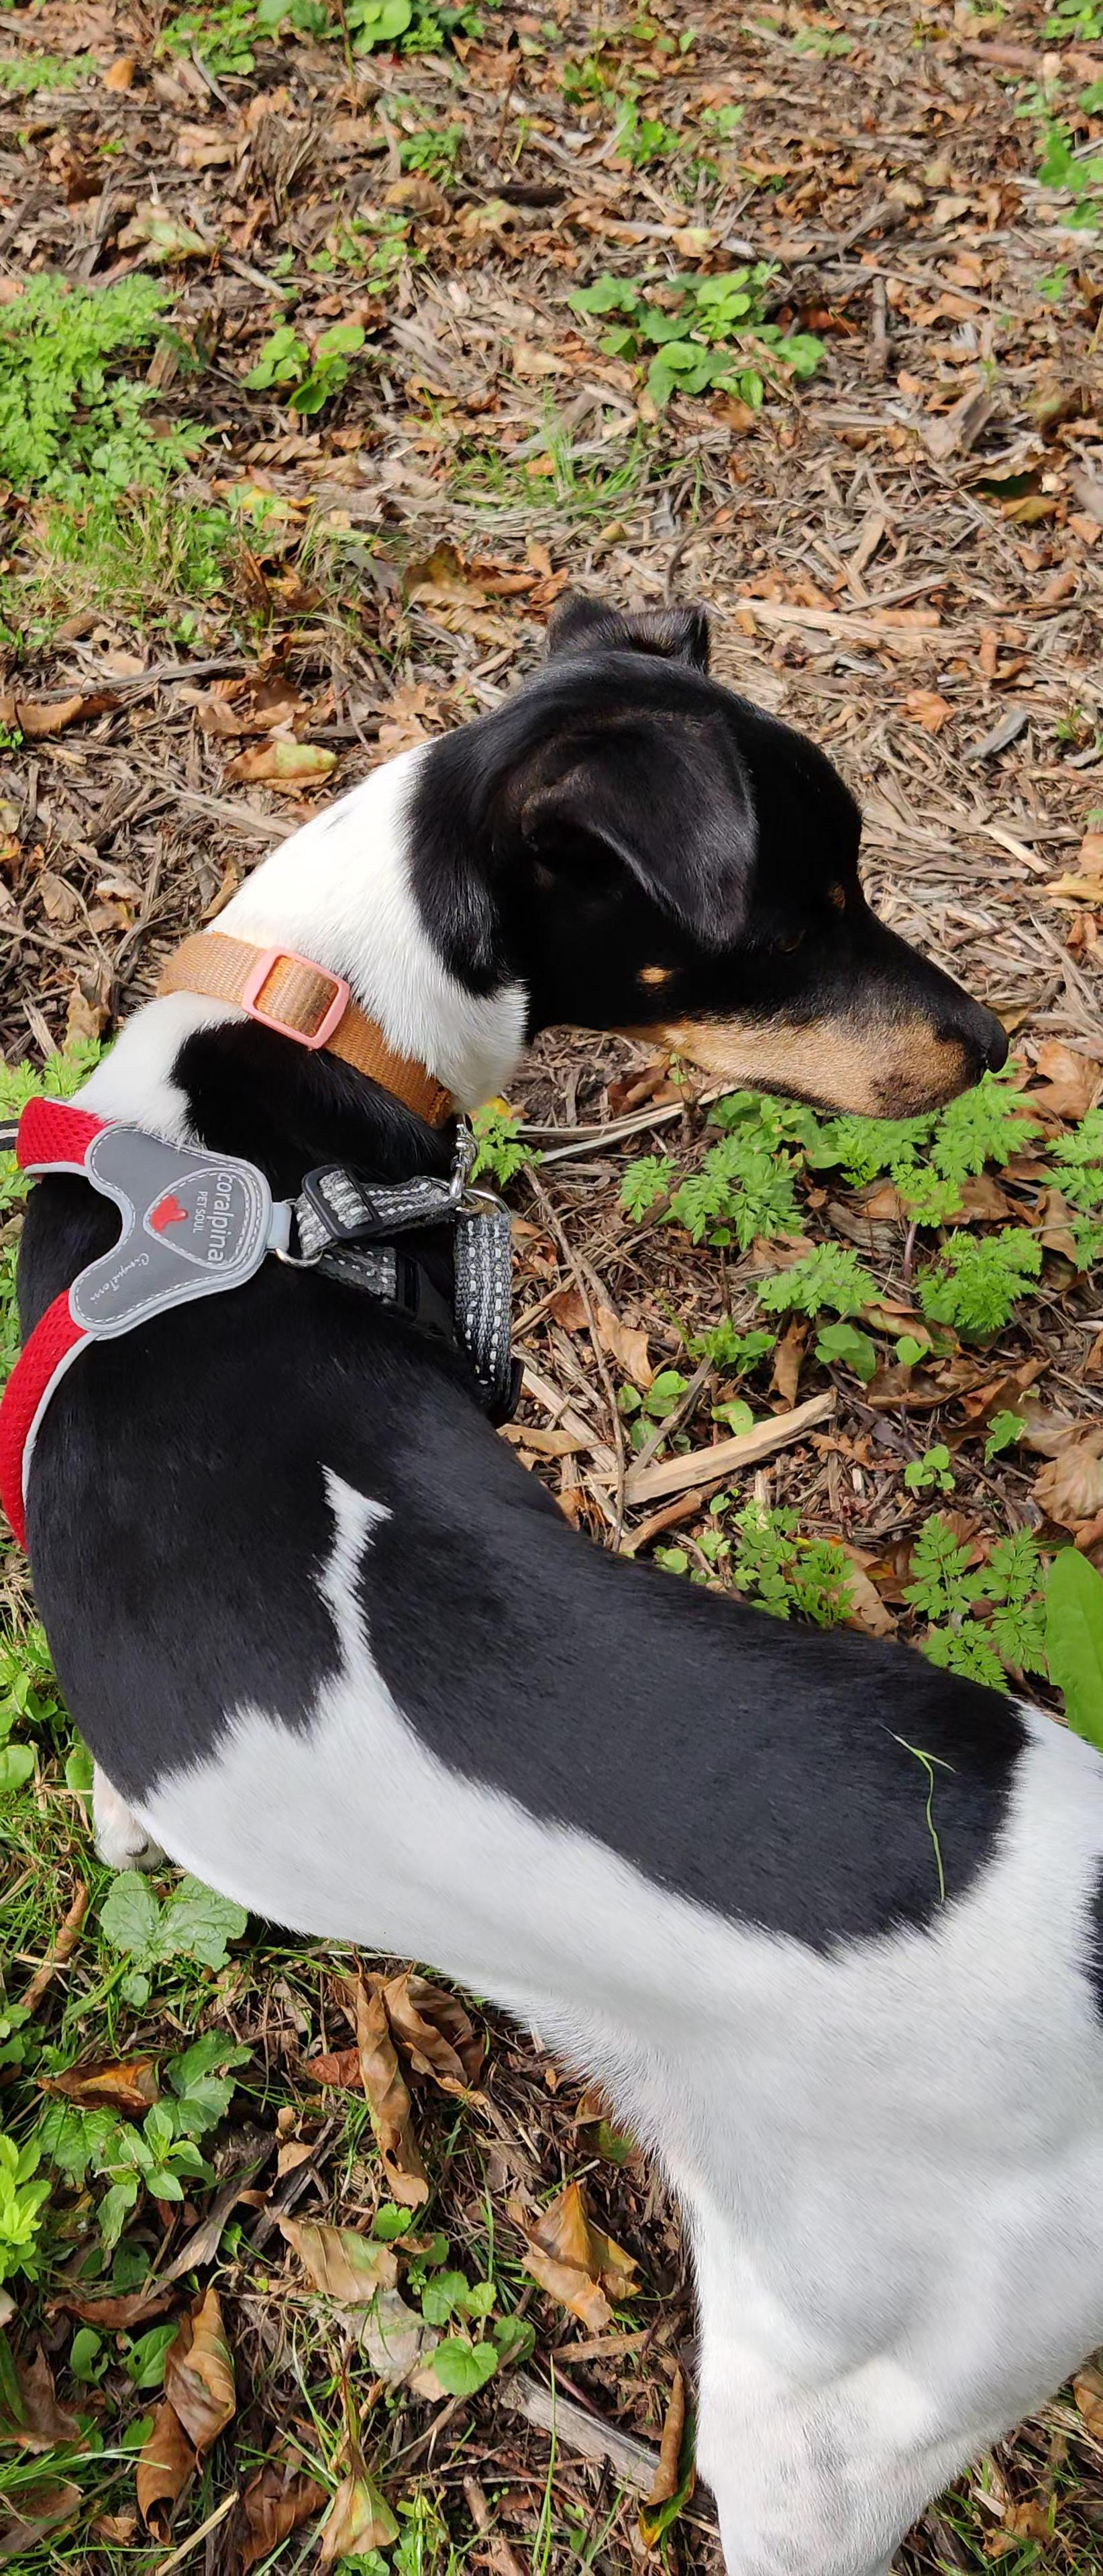Dog: (12, 578, 1103, 2576)
